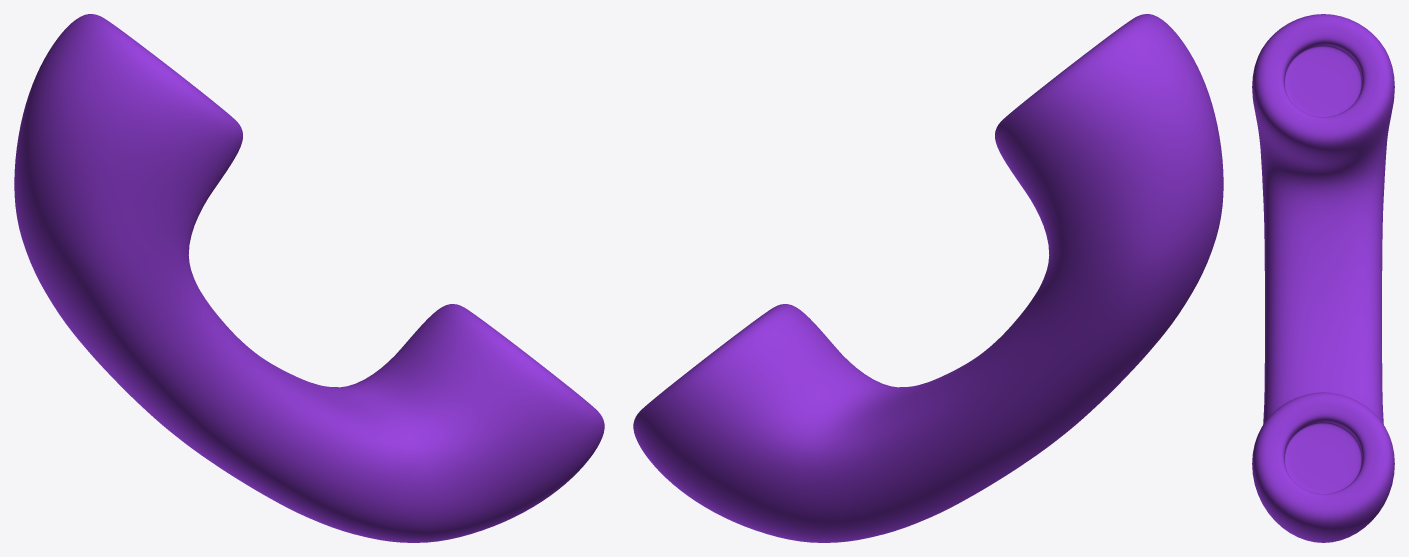
Rendered from call-only.glb.
3 views of the same model, side by side, from view 1: azimuth 30°, elevation 25°; view 2: azimuth 150°, elevation 25°; view 3: azimuth 270°, elevation 25° (orthographic). The views are drawn at different scales.
Parts seen in each view (by area): view 1: phone; view 2: phone; view 3: phone.
Part boxes in pixels (x1,y1,x2,y2): phone: [14, 14, 604, 542]; phone: [633, 14, 1223, 542]; phone: [1252, 14, 1394, 542].
Bounding box in the file's own units: 1.77 × 1.77 × 0.5744.
